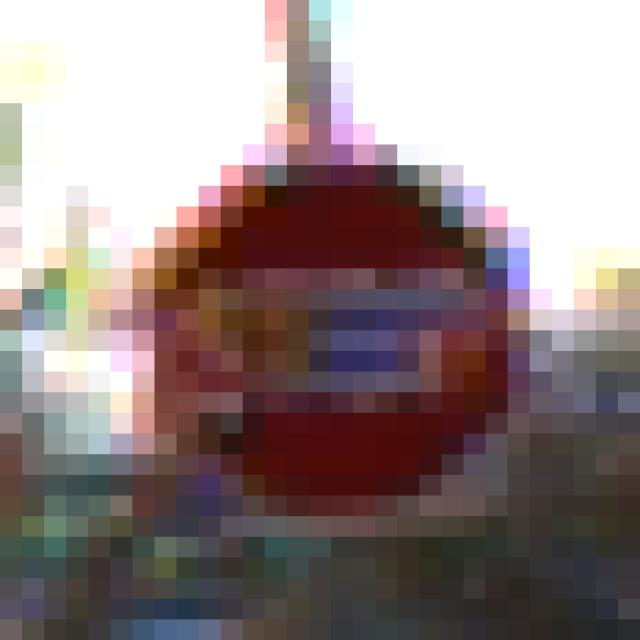STOP: (112, 125, 509, 517)
